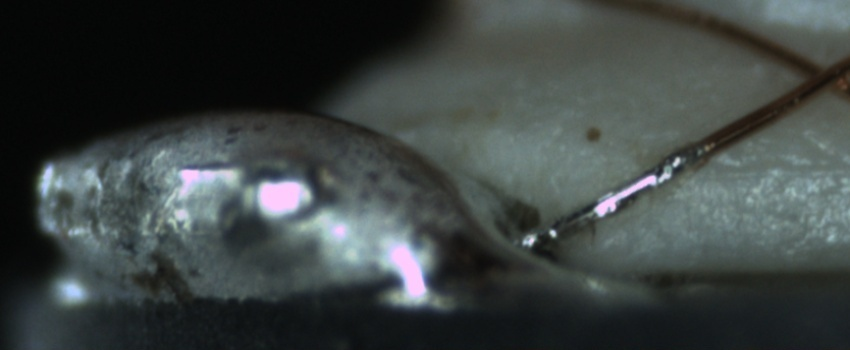CL: (779, 41, 848, 104)
DL: (685, 138, 849, 202)
TS: (525, 142, 705, 253)
